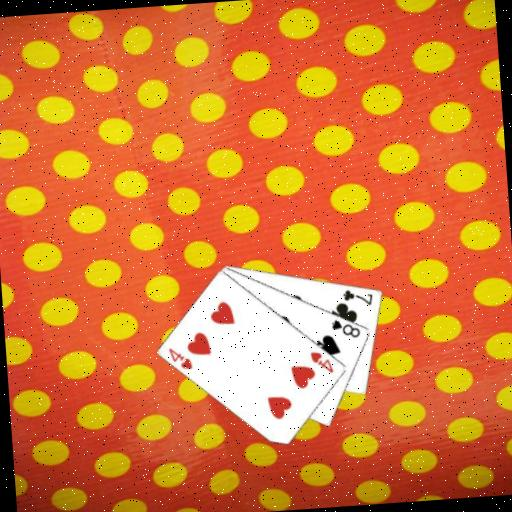4H: (307, 347, 336, 376), (166, 343, 195, 372)
7C: (340, 285, 375, 309)
8S: (328, 315, 362, 341)
